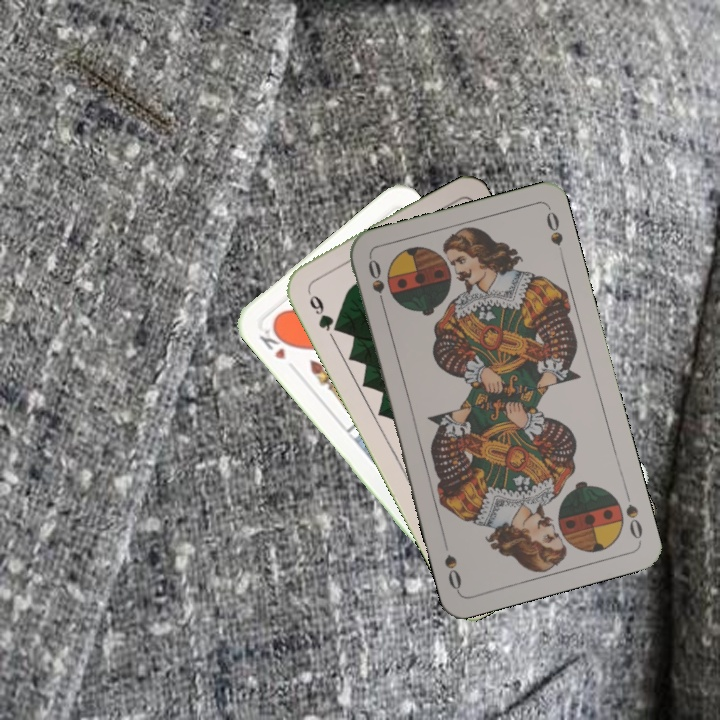G9: (303, 284, 343, 335)
HK: (255, 321, 293, 363)
SO: (364, 255, 389, 313), (621, 485, 645, 544)
